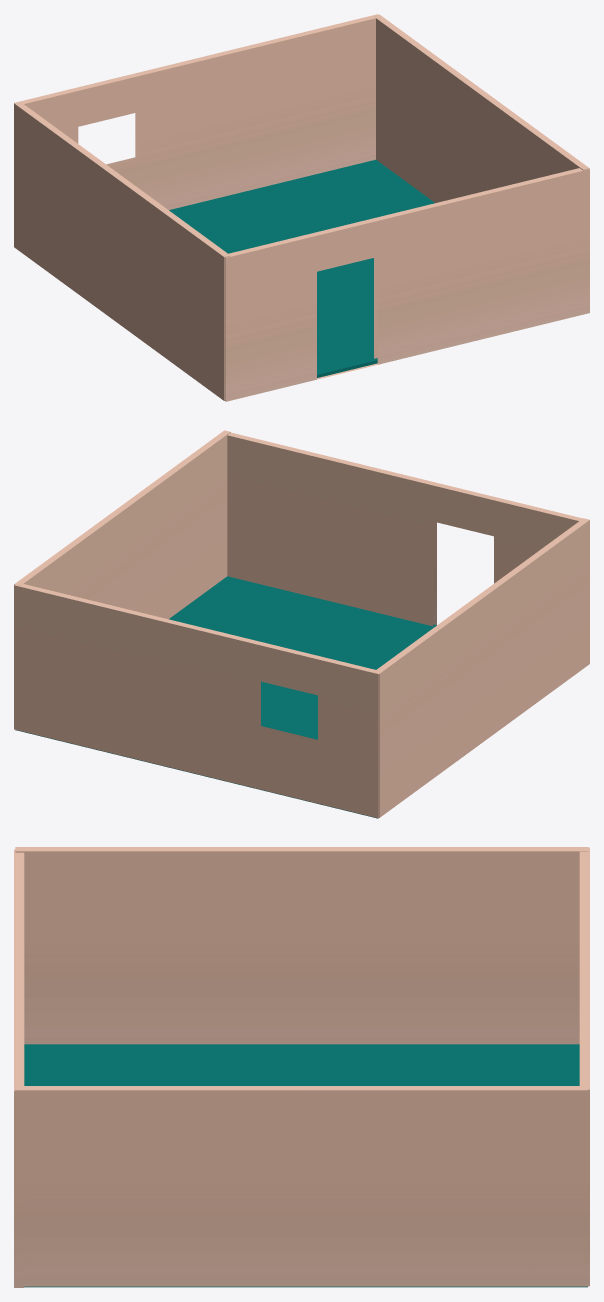
File: cuarto.obj
3 renders of one model, top to bottom at view 1: azimuth 30°, elevation 25°; view 2: azimuth 150°, elevation 25°; view 3: azimuth 270°, elevation 25°, orthographic. The views are drawn at different scales.
Parts seen in each view (by area): view 1: pCube14; view 2: pCube14; view 3: pCube14.
Part boxes in pixels (x1=…): pCube14: x1=14, y1=14, x2=589, y2=401; pCube14: x1=14, y1=430, x2=589, y2=818; pCube14: x1=14, y1=847, x2=589, y2=1287.
Bounding box in the file's own units: 14.53 × 5.51 × 14.54.
Materials: 2 (2 with a texture image).
